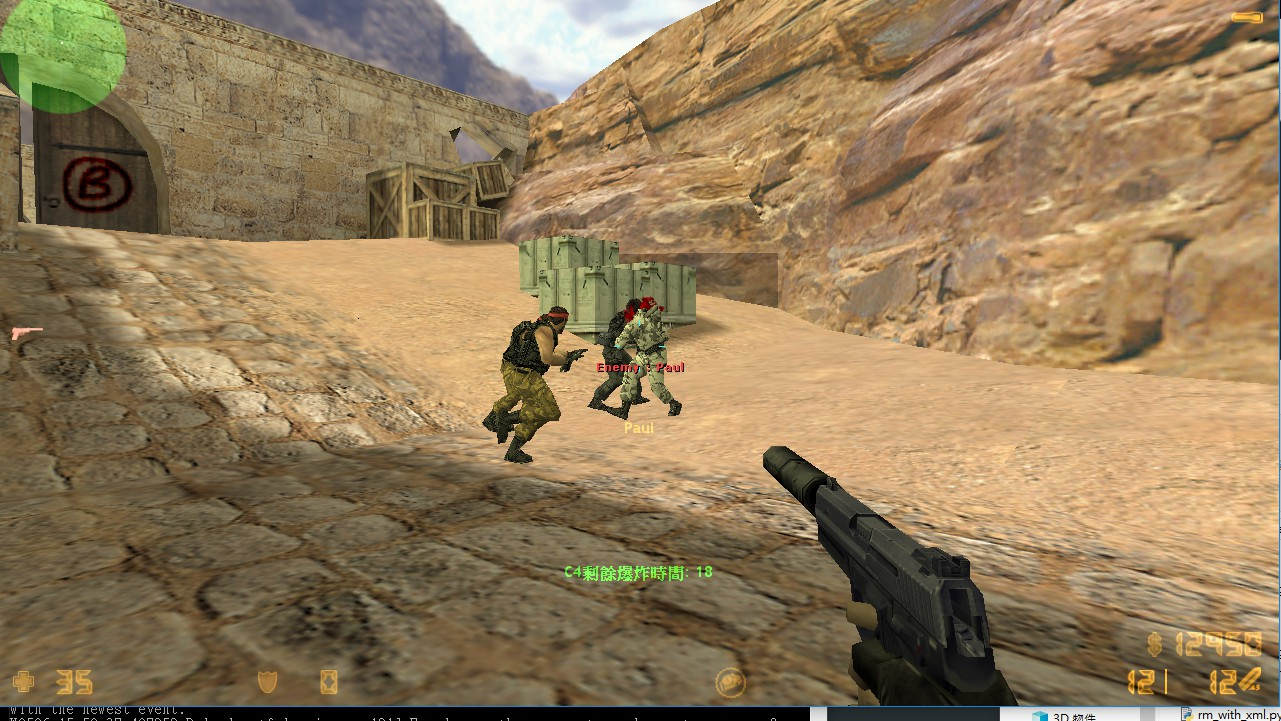person: (497, 300, 589, 471), (613, 295, 685, 422), (596, 299, 642, 416)
